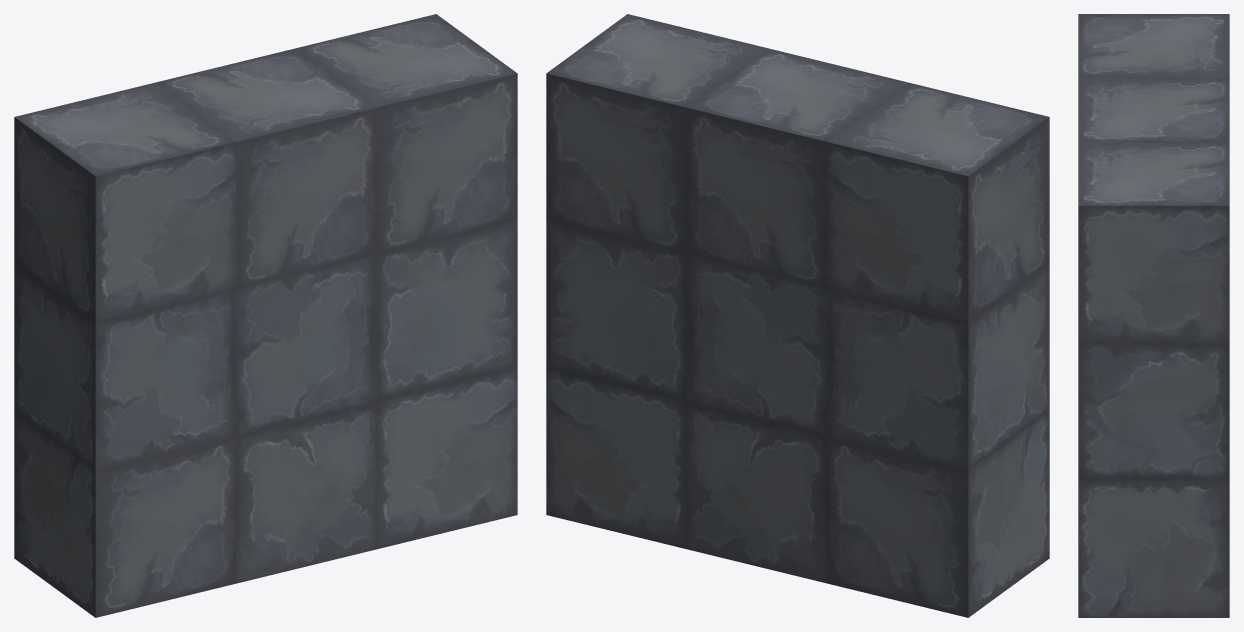
Rendered from Castle Block 3x3.fbx.
3 views of the same model, side by side, from view 1: azimuth 30°, elevation 25°; view 2: azimuth 150°, elevation 25°; view 3: azimuth 270°, elevation 25° (orthographic). The views are drawn at different scales.
Parts seen in each view (by area): view 1: Castle Block 3x3; view 2: Castle Block 3x3; view 3: Castle Block 3x3.
Boxes of the visible parts, x1=… form: Castle Block 3x3: x1=14, y1=14, x2=517, y2=617; Castle Block 3x3: x1=546, y1=14, x2=1049, y2=617; Castle Block 3x3: x1=1078, y1=14, x2=1229, y2=617.
Bounding box in the file's own units: 2.25 × 2.25 × 0.75.
